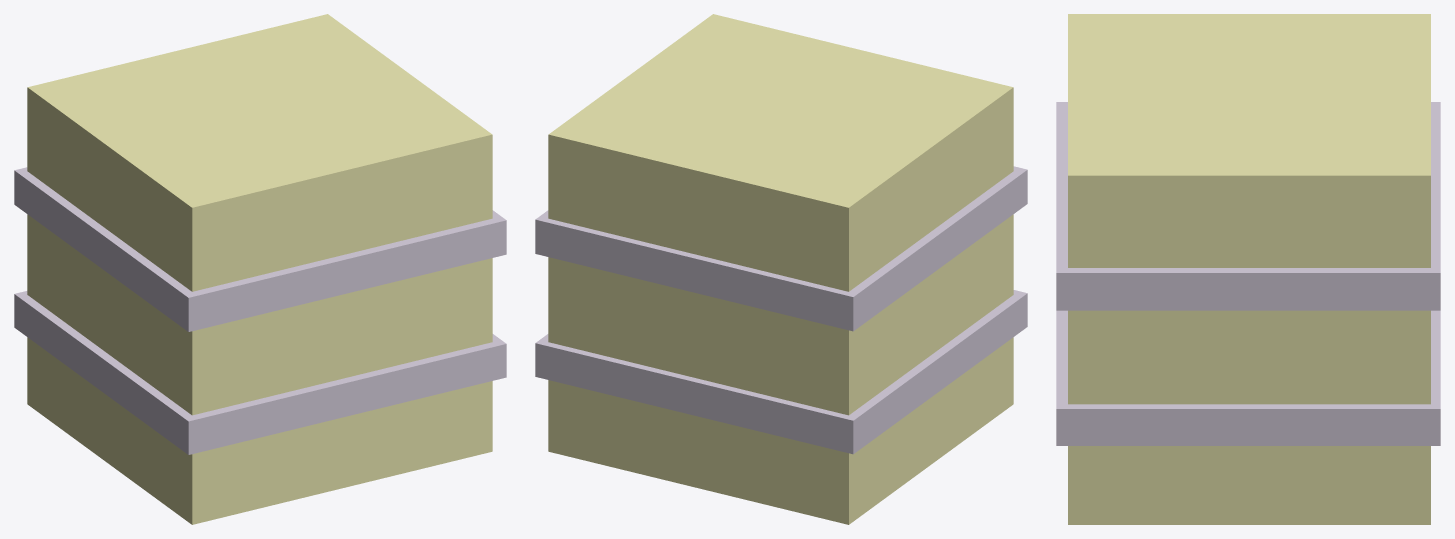
The model's file is hay_single.fbx.
3 renders of one model, left to right at view 1: azimuth 30°, elevation 25°; view 2: azimuth 150°, elevation 25°; view 3: azimuth 270°, elevation 25°, orthographic. The views are drawn at different scales.
Visible parts, largest first — view 1: hay_single; view 2: hay_single; view 3: hay_single.
Part boxes in pixels (bbox=[...]): hay_single: bbox=[14, 14, 506, 524]; hay_single: bbox=[535, 14, 1027, 524]; hay_single: bbox=[1056, 14, 1440, 524].
Bounding box in the file's own units: 76.31 × 72.7 × 72.41.
